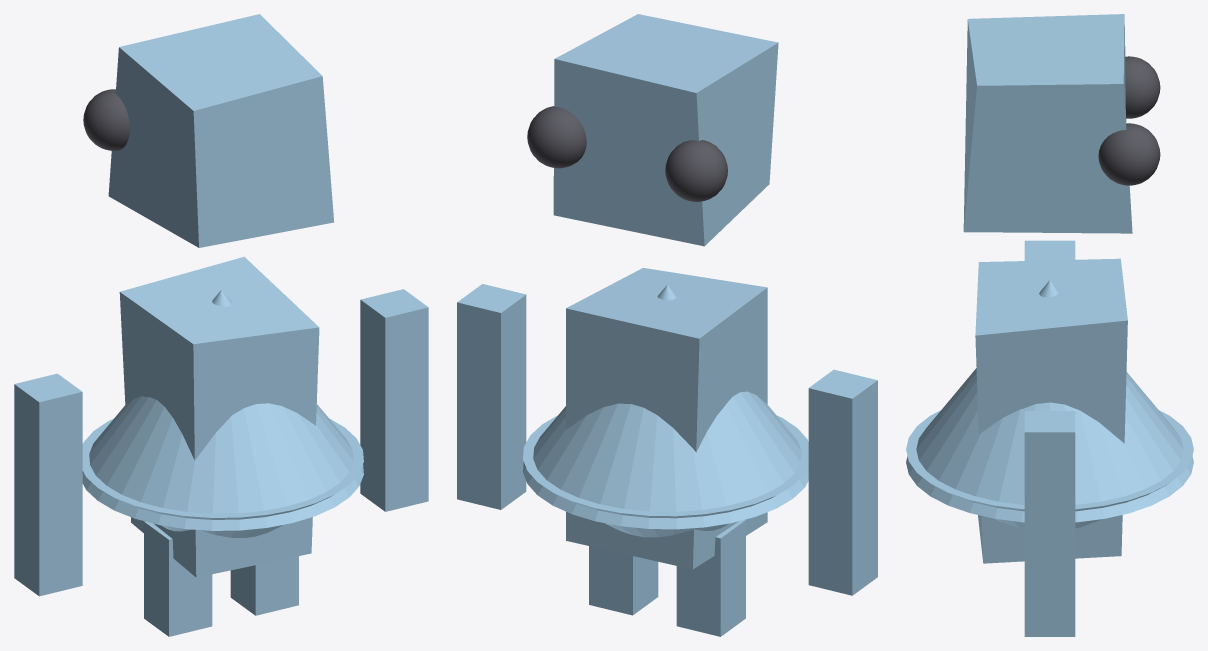
Rendered from clay_diamond_rarity.glb.
The picture shows the model from 3 angles, left to right: view 1: azimuth 30°, elevation 25°; view 2: azimuth 150°, elevation 25°; view 3: azimuth 270°, elevation 25°; orthographic projection.
Visible parts, largest first — view 1: diambot; view 2: diambot; view 3: diambot.
Part boxes in pixels (x1,y1,x2,y2): diambot: (14,14,428,636); diambot: (457,14,877,636); diambot: (906,14,1193,636).
Size of the model in its own units: 1.89 by 2.57 by 1.2.
